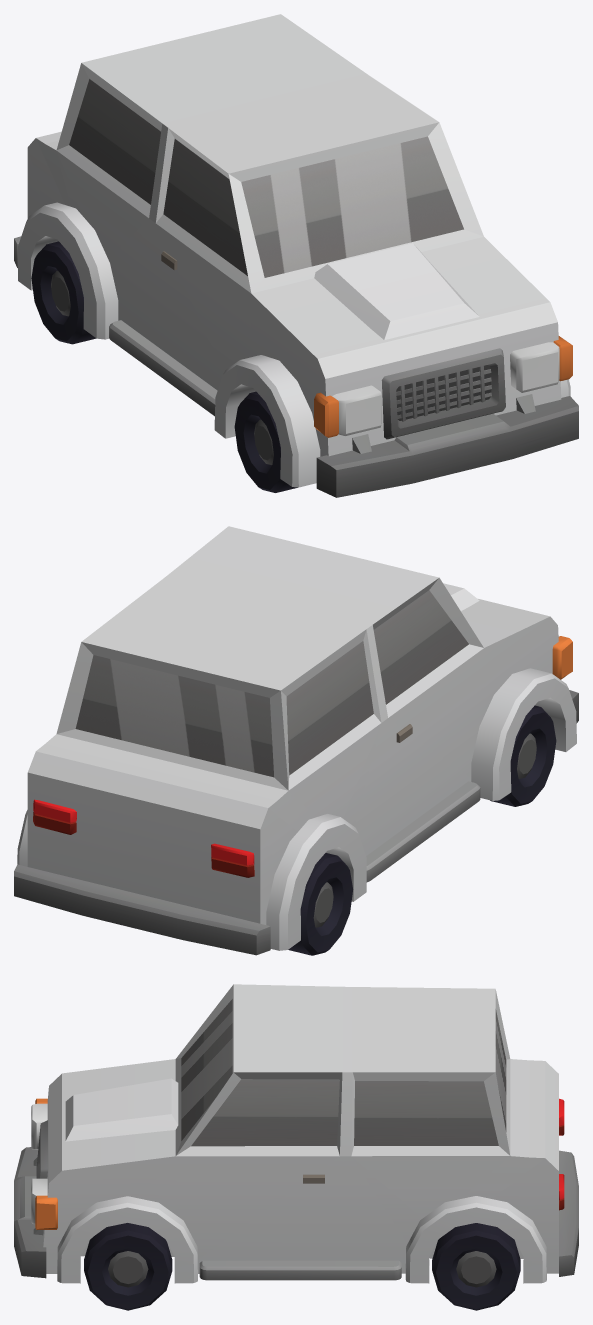
Rendered from Car_3_5.glb.
The picture shows the model from 3 angles, top to bottom: view 1: azimuth 30°, elevation 25°; view 2: azimuth 150°, elevation 25°; view 3: azimuth 270°, elevation 25°; orthographic projection. The views are drawn at different scales.
Visible parts, largest first — view 1: Car_3_5, Wheel_Br, Wheel_Fr; view 2: Car_3_5, Wheel_Br, Wheel_Fr; view 3: Car_3_5, Wheel_Bl, Wheel_Fl.
Part boxes in pixels (x1,y1,x2,y2): Car_3_5: [14, 14, 578, 497]; Wheel_Br: [31, 241, 96, 344]; Wheel_Fr: [234, 391, 297, 492]; Car_3_5: [14, 526, 578, 955]; Wheel_Br: [288, 853, 353, 955]; Wheel_Fr: [490, 705, 556, 806]; Car_3_5: [14, 984, 578, 1283]; Wheel_Bl: [432, 1223, 520, 1310]; Wheel_Fl: [84, 1223, 172, 1310].
Size of the model in its own units: 1.13 by 1.02 by 2.3.
Materials: 6 (6 with a texture image).
